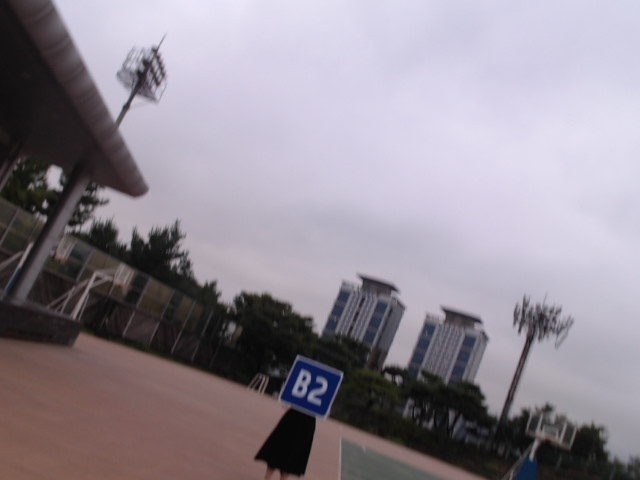delivery_b2: (281, 355, 343, 418)
